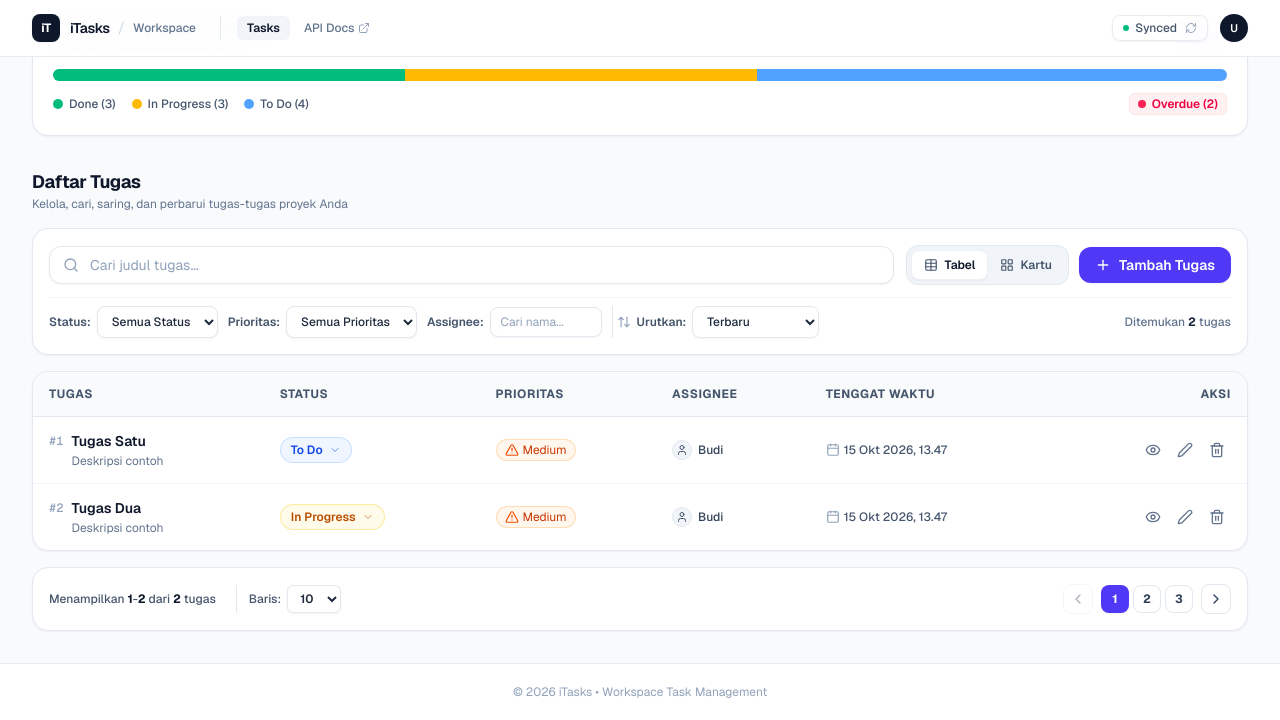
Test case: HomePage › modal form › Edit dari tabel membuka form terisi dan submit memanggil updateTask
(page scrolled)
Click the button named "Edit task" in the row of "Tugas Dua" at (1185, 517), box top-left (1171, 503), bottom-right (1199, 531)
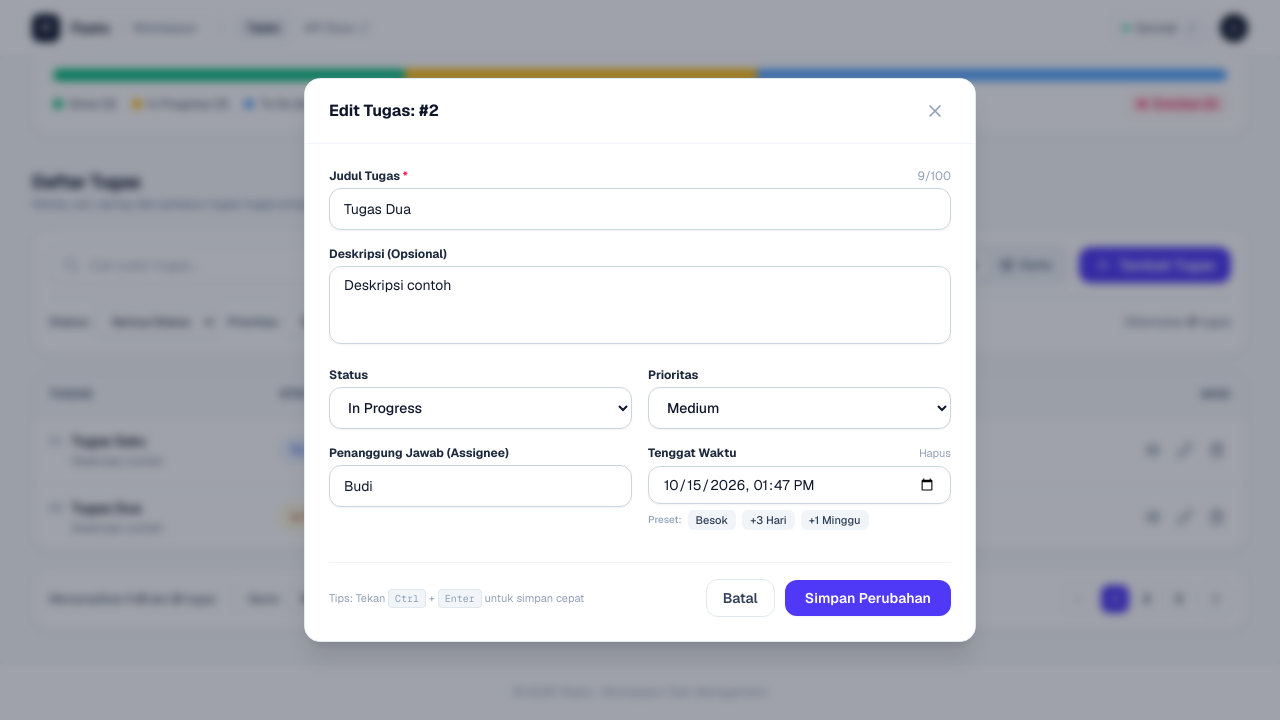
Result: the dialog "Edit Tugas: #2" is shown at top-left (304, 78), bottom-right (976, 642)
Result: the field labelled "Judul Tugas *" holds "Tugas Dua"
Replace the text in the field labelled "Judul Tugas *" with "Tugas Dua Revisi" at (640, 209), box top-left (329, 188), bottom-right (951, 230)
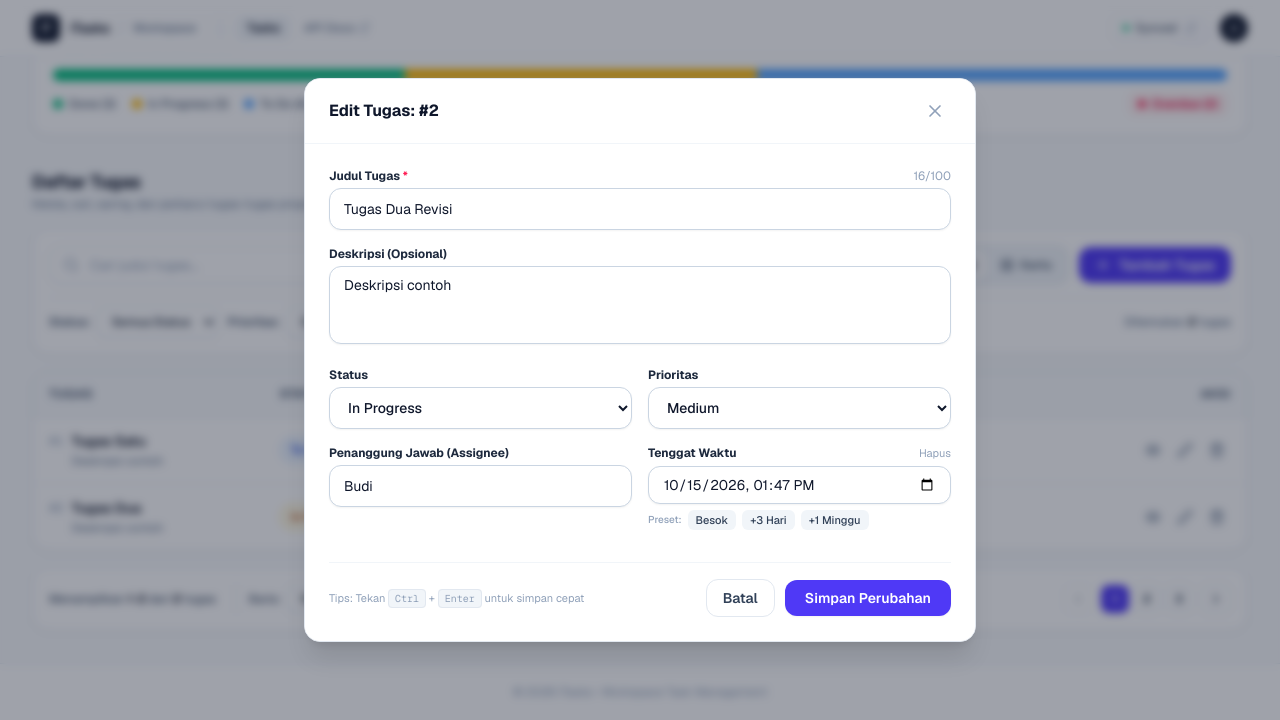
Click the button "Simpan Perubahan" at (868, 598), box top-left (785, 580), bottom-right (951, 616)
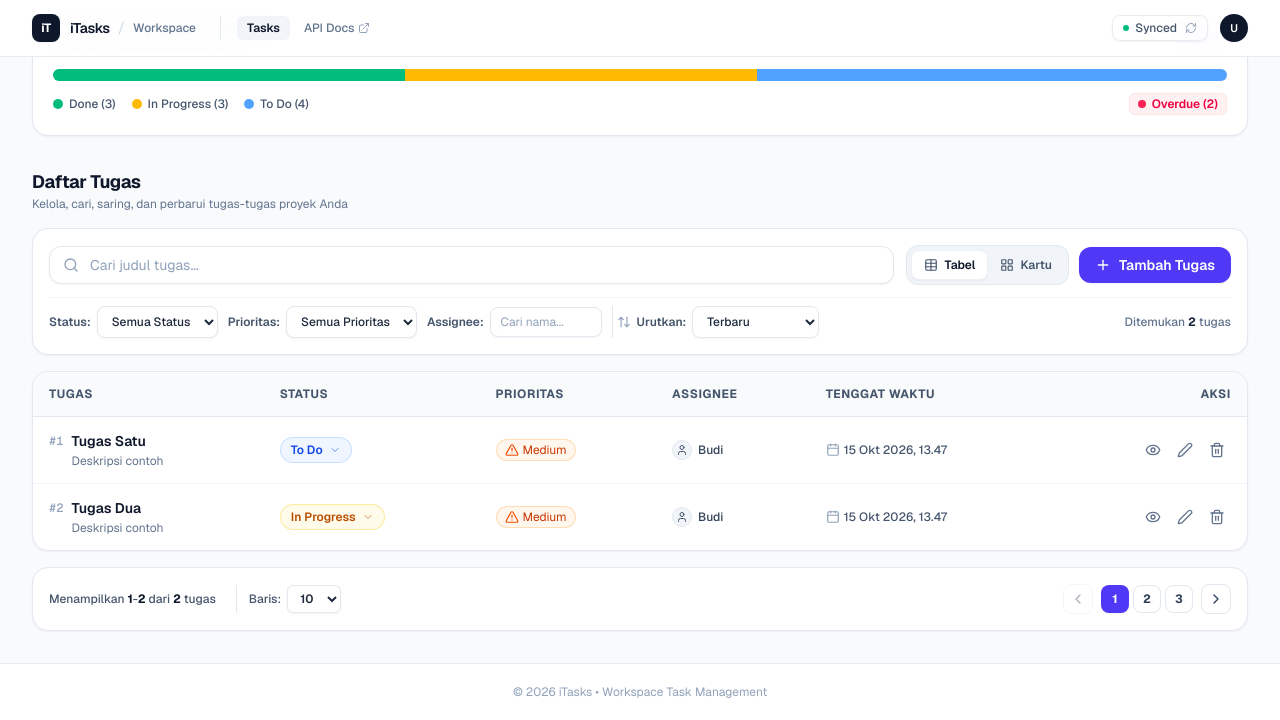
Result: the dialog is gone
